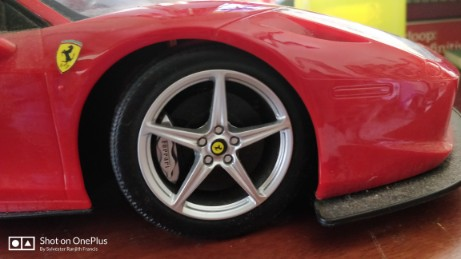unaligned_wheel: (91, 50, 320, 246)
